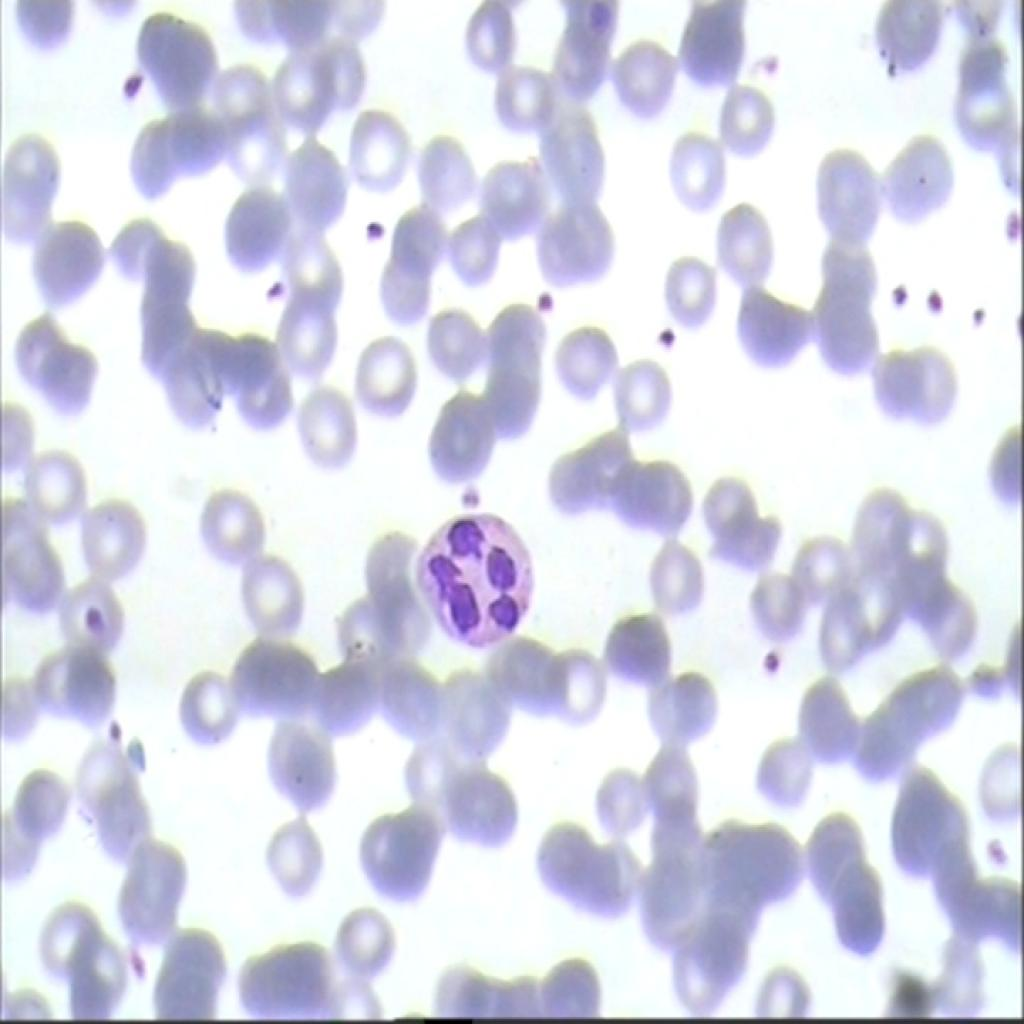Neutrofil: (412, 500, 538, 674)
Platelet: (350, 192, 400, 254), (256, 263, 303, 327), (104, 57, 151, 117), (638, 308, 690, 358), (91, 692, 134, 748), (748, 631, 785, 679), (880, 265, 910, 323), (523, 277, 552, 327), (444, 469, 475, 514), (922, 286, 952, 331), (988, 203, 1022, 240), (74, 603, 112, 631), (958, 293, 982, 329)
